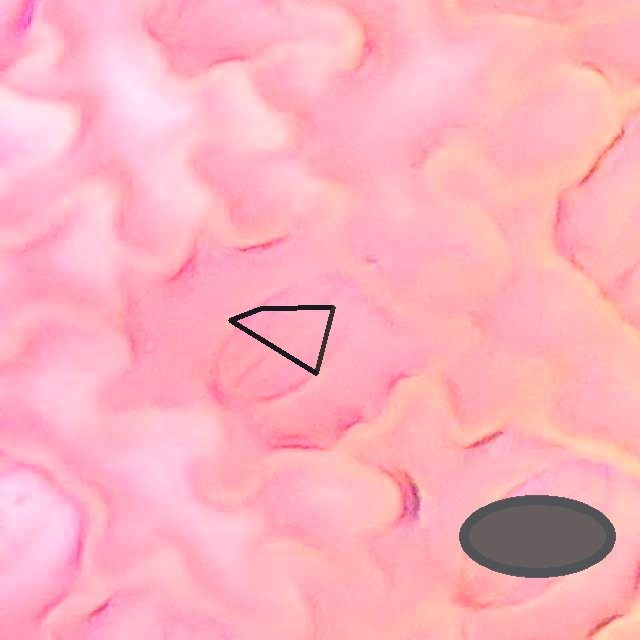close: (458, 495, 615, 577), (228, 306, 335, 375)
